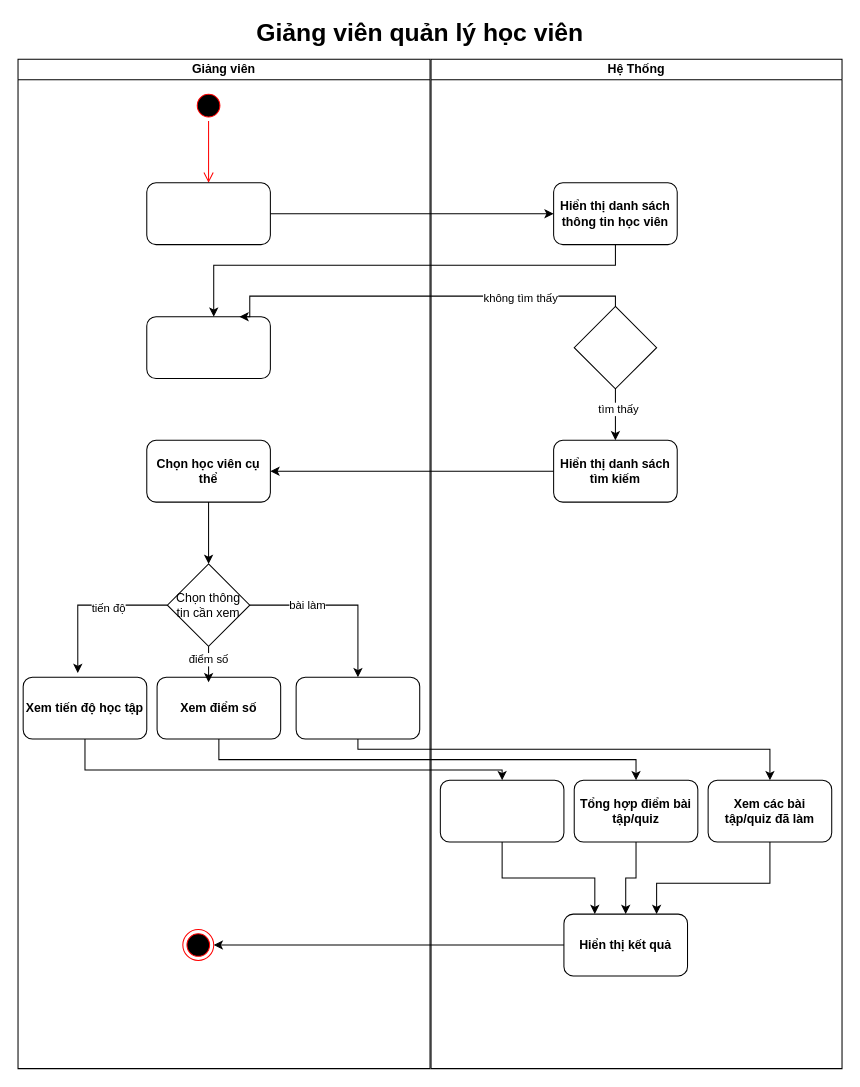
The diagram is 860 pixels wide and 1087 high, and some of its shapes have lost their labels. Each missing label, with the centre of its shape:
Hiển thị tiến độ: the point at 501,810
Truy cập quản lý học viên: the point at 208,213
Tìm kiếm học viên: the point at 208,347
Tìm kiếm theo từ khóa hoặc bộ lọc: the point at 615,347
xem bài làm: the point at 357,707
